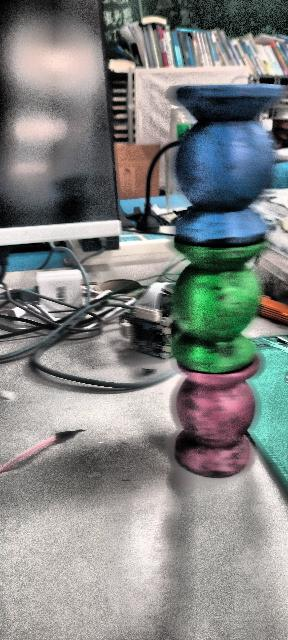blue: (171, 84, 275, 248)
green: (159, 245, 263, 372)
red: (175, 371, 277, 481)
